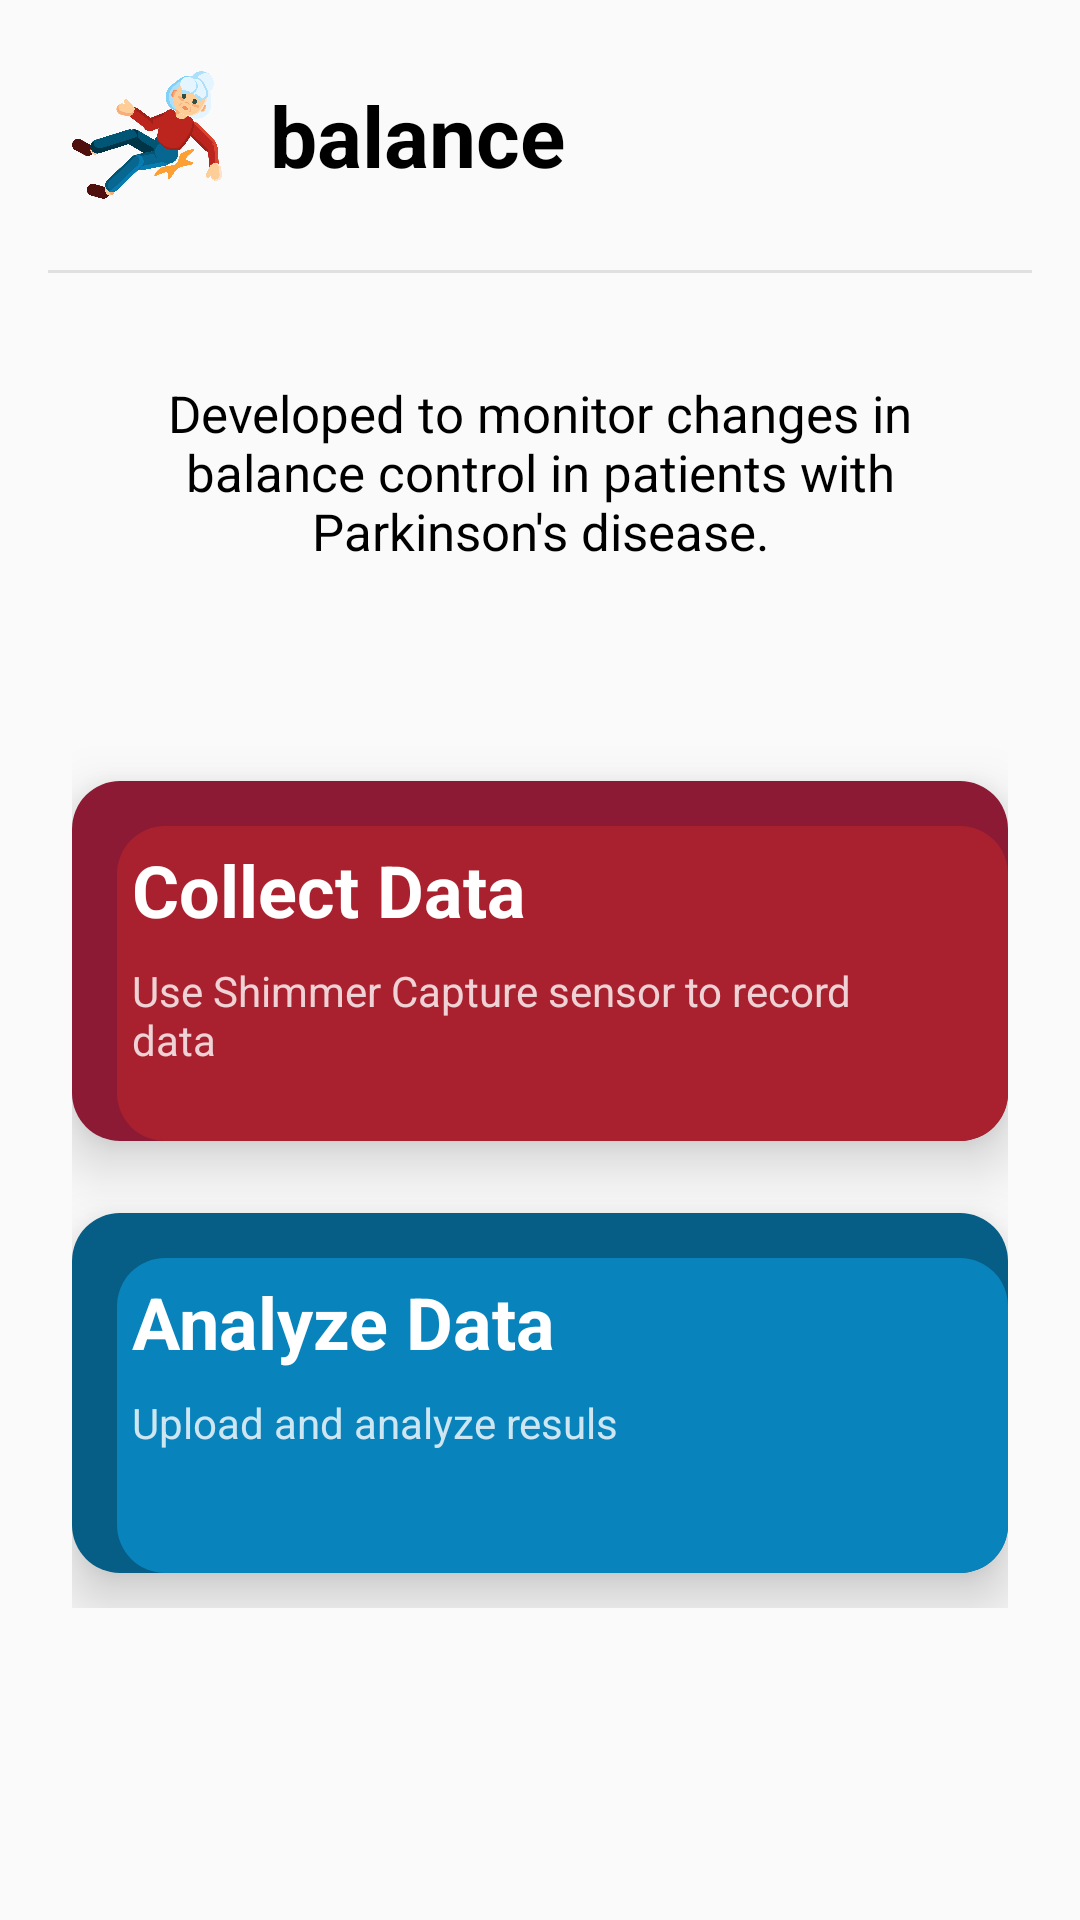

Icon click points for this 1080px x 1920px phone screenshot, format [x,y]:
fall: [147,135]
